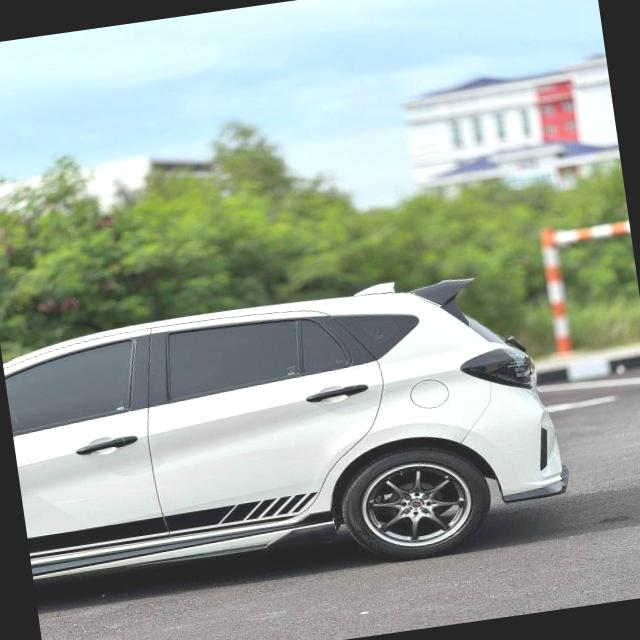PeroduaMyvi: (0, 258, 579, 612)
